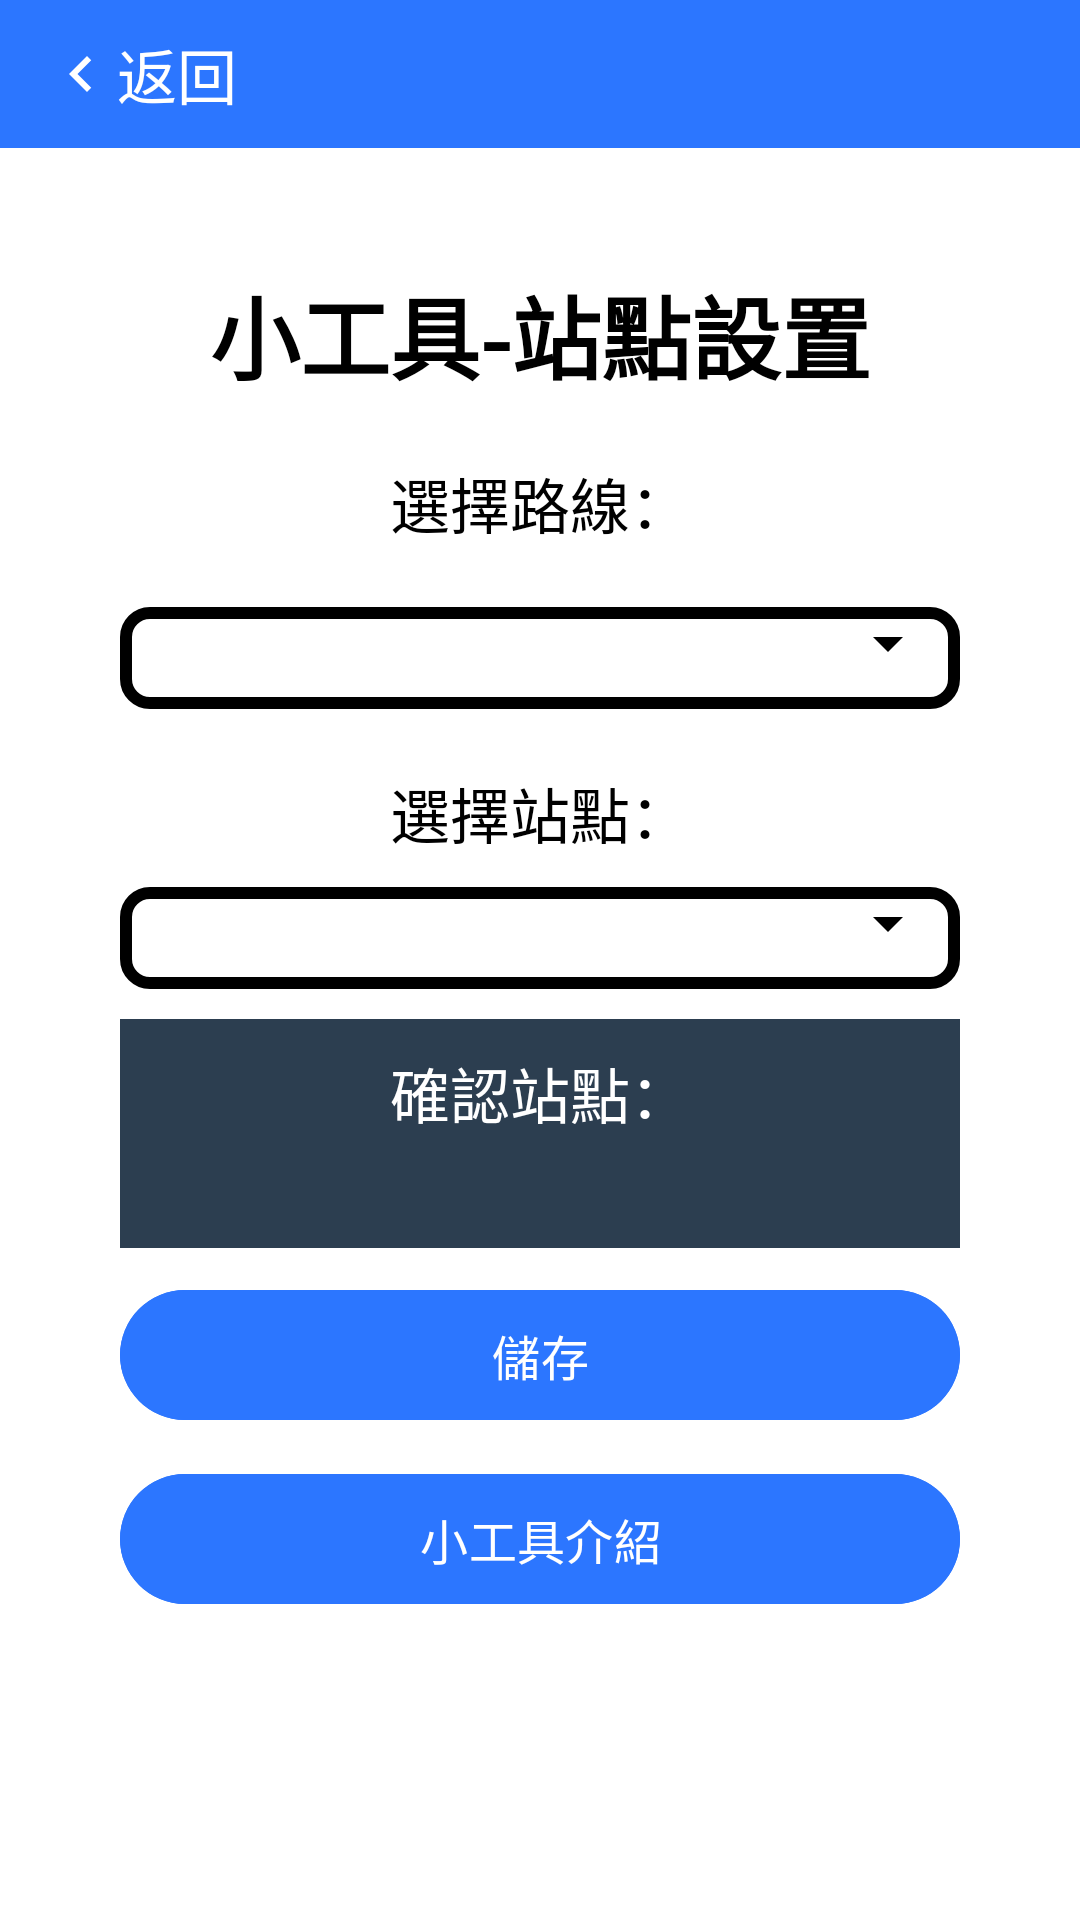

Icon bounding boxes for this 1080 x 1920 phone screenshot, format rect(x1, y1, x2, y2):
chevron left: rect(69, 56, 91, 92)
